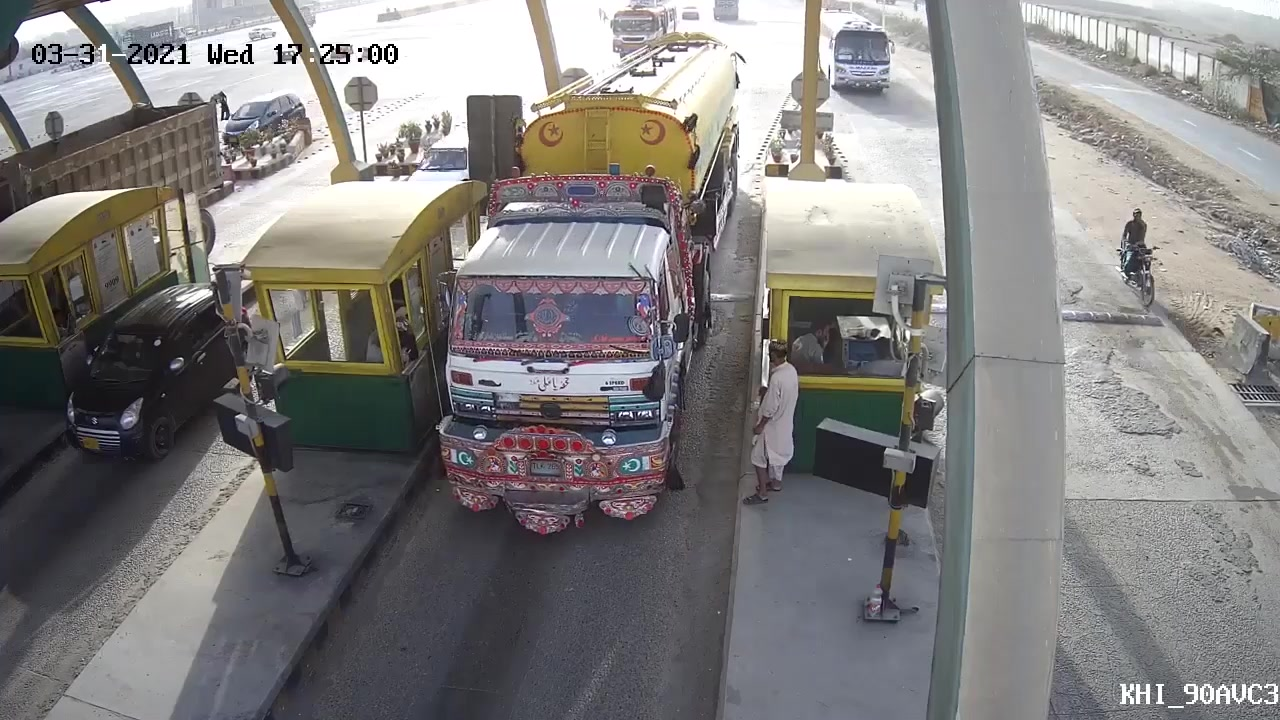F6: (433, 42, 739, 549)
